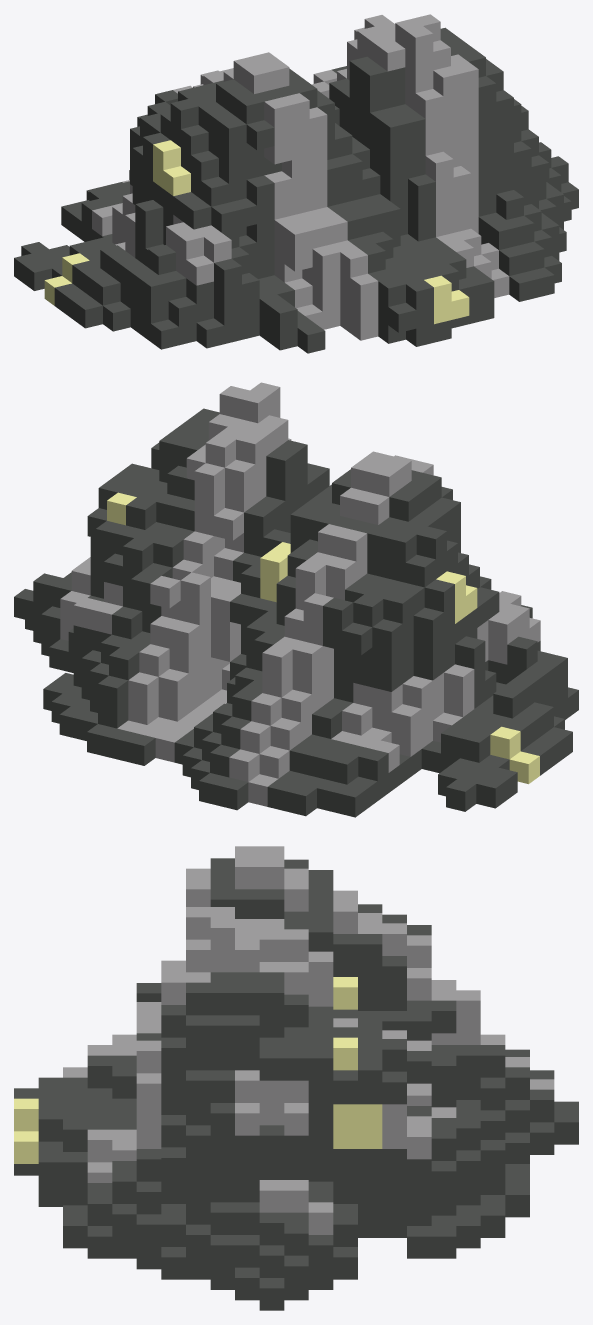
Rendered from rock.obj.
The picture shows the model from 3 angles, top to bottom: view 1: azimuth 30°, elevation 25°; view 2: azimuth 150°, elevation 25°; view 3: azimuth 270°, elevation 25°; orthographic projection. The views are drawn at different scales.
Size of the model in its own units: 2.8 by 1.3 by 2.3.
Materials: 1 (1 with a texture image).
